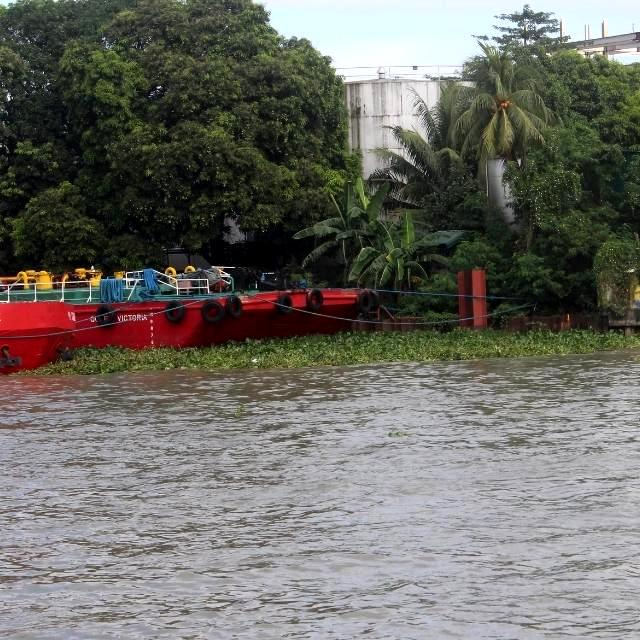water-hyacinth: (74, 320, 640, 376)
